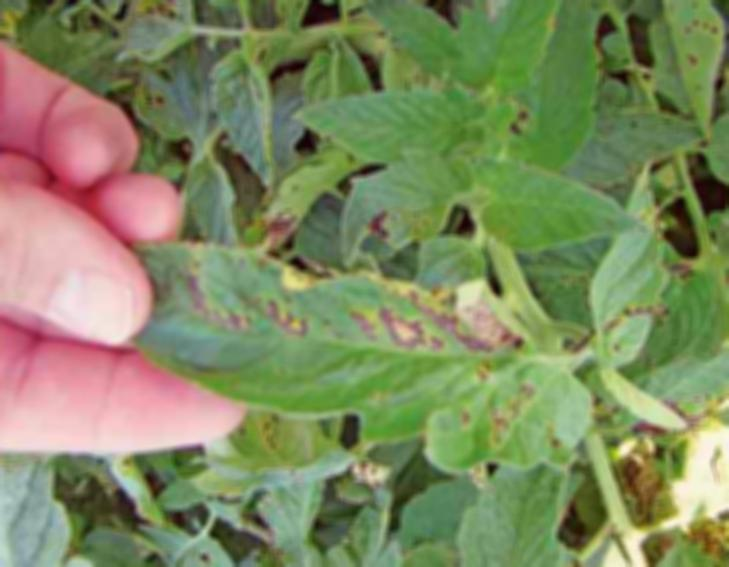Tomato Early blight leaf: (142, 245, 614, 478)
Tomato leaf: (466, 158, 657, 248), (298, 92, 462, 154), (369, 0, 472, 78)
